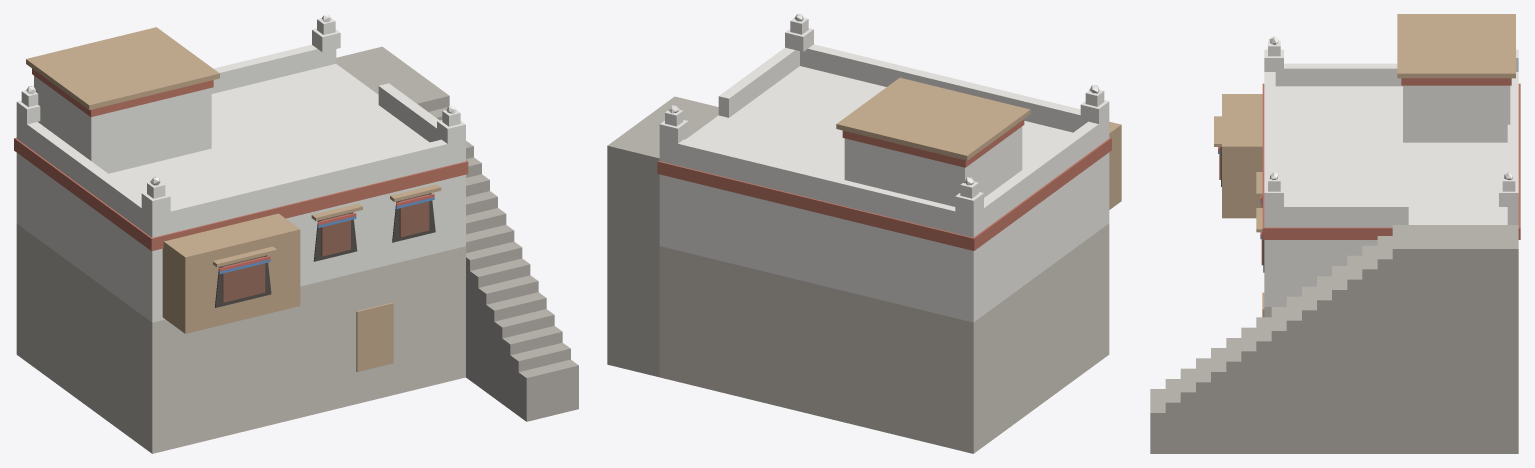
3 renders of one model, left to right at view 1: azimuth 30°, elevation 25°; view 2: azimuth 150°, elevation 25°; view 3: azimuth 270°, elevation 25°, orthographic. The views are drawn at different scales.
Visible parts, largest first — view 1: WB_house; view 2: WB_house; view 3: WB_house.
Boxes of the visible parts, left/top/right/bottom form: WB_house: left=14, top=14, right=578, bottom=453; WB_house: left=607, top=14, right=1121, bottom=453; WB_house: left=1150, top=14, right=1520, bottom=453.
Size of the model in its own units: 14.06 by 10.78 by 13.09.
